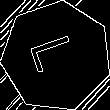L_E: (28, 33, 85, 79)
